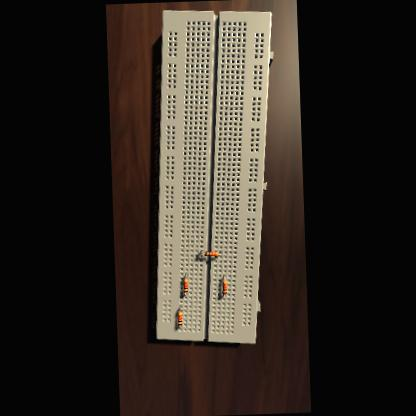breadboard: (144, 6, 284, 346)
resistor: (204, 250, 218, 256), (182, 278, 187, 292), (221, 280, 226, 294), (178, 311, 182, 325)
wire: (180, 305, 182, 311), (200, 250, 203, 253), (218, 250, 220, 253), (224, 275, 225, 280), (184, 292, 186, 294), (185, 274, 186, 278), (223, 294, 224, 296), (178, 326, 180, 326)
